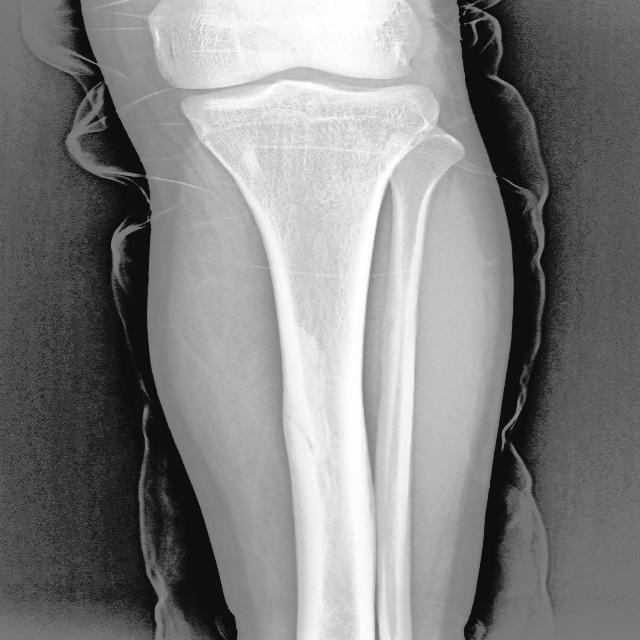HairLine Fracture: (281, 414, 323, 464)
